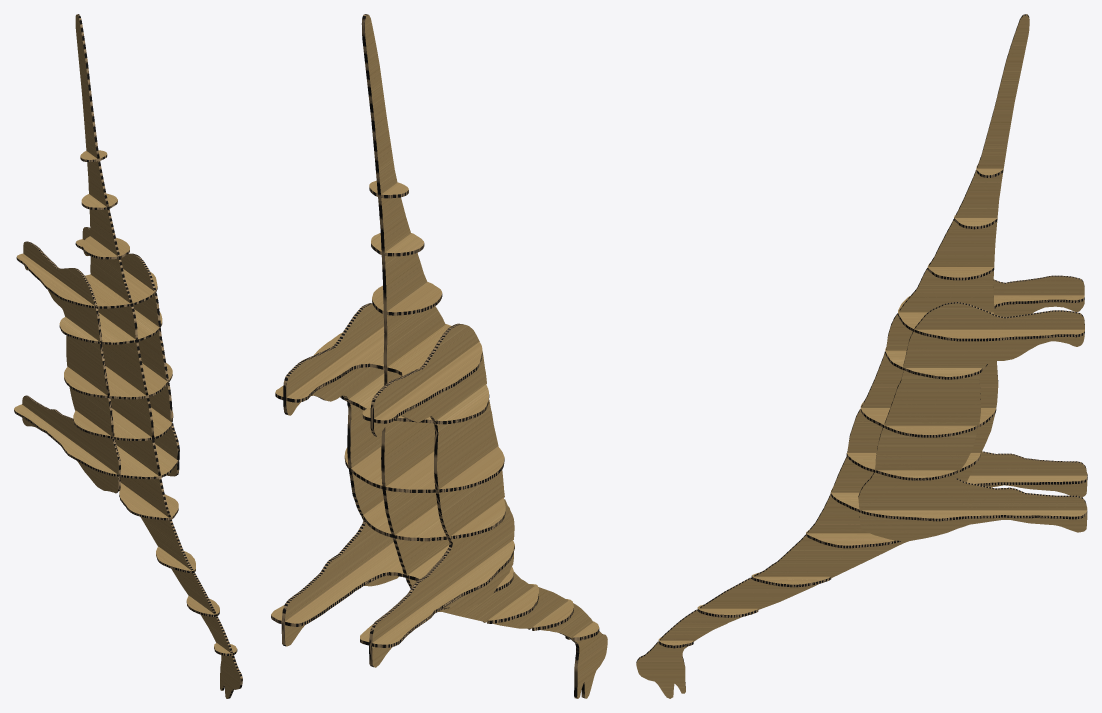
The model's file is sliced.obj.
3 renders of one model, left to right at view 1: azimuth 30°, elevation 25°; view 2: azimuth 150°, elevation 25°; view 3: azimuth 270°, elevation 25°, orthographic. The views are drawn at different scales.
Parts seen in each view (by area): view 1: Slice_Y-2_Part_0000_CapBot_0000, Slice_Y-1_Part_0000_CapBot_0000, Slice_Y-3_Part_0000_CapBot_0000, Slice_Z-4_Part_0000_CapBot_0000, Slice_Z-8_Part_0000_CapBot_0000, Slice_Y-2_Part_0000_Ribbon_0000, Slice_Z-6_Part_0000_CapBot_0000, Slice_Z-5_Part_0000_CapBot_0000, Slice_Z-7_Part_0000_CapBot_0000, Slice_Z-9_Part_0000_CapBot_0000, Slice_Y-1_Part_0000_Ribbon_0000, Slice_Y-3_Part_0000_Ribbon_0000 (+4 smaller); view 2: Slice_Y-2_Part_0000_CapBot_0000, Slice_Y-1_Part_0000_CapBot_0000, Slice_Y-3_Part_0000_CapBot_0000, Slice_Z-8_Part_0000_CapBot_0000, Slice_Z-4_Part_0000_CapBot_0000, Slice_Z-6_Part_0000_CapBot_0000, Slice_Y-2_Part_0000_Ribbon_0000, Slice_Z-7_Part_0000_CapBot_0000, Slice_Y-1_Part_0000_Ribbon_0000, Slice_Y-3_Part_0000_Ribbon_0000, Slice_Z-5_Part_0000_CapBot_0000, Slice_Z-8_Part_0000_Ribbon_0000 (+6 smaller); view 3: Slice_Y-2_Part_0000_CapTop_0000, Slice_Y-3_Part_0000_CapTop_0000, Slice_Y-1_Part_0000_CapTop_0000, Slice_Z-8_Part_0000_CapBot_0000, Slice_Z-4_Part_0000_CapBot_0000, Slice_Z-8_Part_0000_Ribbon_0000, Slice_Z-6_Part_0000_CapBot_0000, Slice_Z-4_Part_0000_Ribbon_0000, Slice_Y-2_Part_0000_Ribbon_0000, Slice_Z-7_Part_0000_CapBot_0000, Slice_Z-9_Part_0000_CapBot_0000, Slice_Y-3_Part_0000_Ribbon_0000 (+1 smaller).
Boxes of the visible parts, bbox=[...] form: Slice_Y-2_Part_0000_CapBot_0000: bbox=[75, 14, 240, 698]; Slice_Y-1_Part_0000_CapBot_0000: bbox=[22, 242, 118, 493]; Slice_Y-3_Part_0000_CapBot_0000: bbox=[82, 227, 177, 476]; Slice_Z-4_Part_0000_CapBot_0000: bbox=[17, 239, 157, 306]; Slice_Z-8_Part_0000_CapBot_0000: bbox=[14, 404, 177, 476]; Slice_Y-2_Part_0000_Ribbon_0000: bbox=[77, 14, 242, 698]; Slice_Z-6_Part_0000_CapBot_0000: bbox=[64, 363, 172, 397]; Slice_Z-5_Part_0000_CapBot_0000: bbox=[59, 309, 162, 342]; Slice_Z-7_Part_0000_CapBot_0000: bbox=[73, 407, 173, 438]; Slice_Z-9_Part_0000_CapBot_0000: bbox=[119, 482, 178, 517]; Slice_Y-1_Part_0000_Ribbon_0000: bbox=[25, 241, 120, 493]; Slice_Y-3_Part_0000_Ribbon_0000: bbox=[85, 227, 179, 476]; Slice_Y-2_Part_0000_CapBot_0000: bbox=[365, 15, 607, 698]; Slice_Y-1_Part_0000_CapBot_0000: bbox=[372, 324, 514, 667]; Slice_Y-3_Part_0000_CapBot_0000: bbox=[285, 304, 398, 646]; Slice_Z-8_Part_0000_CapBot_0000: bbox=[271, 540, 514, 644]; Slice_Z-4_Part_0000_CapBot_0000: bbox=[275, 324, 482, 420]; Slice_Z-6_Part_0000_CapBot_0000: bbox=[344, 446, 504, 489]; Slice_Y-2_Part_0000_Ribbon_0000: bbox=[361, 14, 602, 698]; Slice_Z-7_Part_0000_CapBot_0000: bbox=[363, 498, 505, 537]; Slice_Y-1_Part_0000_Ribbon_0000: bbox=[369, 323, 504, 667]; Slice_Y-3_Part_0000_Ribbon_0000: bbox=[281, 303, 372, 646]; Slice_Z-5_Part_0000_CapBot_0000: bbox=[342, 373, 489, 420]; Slice_Z-8_Part_0000_Ribbon_0000: bbox=[271, 546, 514, 647]; Slice_Y-2_Part_0000_CapTop_0000: bbox=[636, 15, 1029, 698]; Slice_Y-3_Part_0000_CapTop_0000: bbox=[858, 303, 1087, 541]; Slice_Y-1_Part_0000_CapTop_0000: bbox=[970, 277, 1087, 497]; Slice_Z-8_Part_0000_CapBot_0000: bbox=[831, 473, 1087, 518]; Slice_Z-4_Part_0000_CapBot_0000: bbox=[898, 295, 1084, 338]; Slice_Z-8_Part_0000_Ribbon_0000: bbox=[830, 474, 1087, 521]; Slice_Z-6_Part_0000_CapBot_0000: bbox=[860, 401, 995, 434]; Slice_Z-4_Part_0000_Ribbon_0000: bbox=[898, 297, 1084, 341]; Slice_Y-2_Part_0000_Ribbon_0000: bbox=[636, 14, 1029, 686]; Slice_Z-7_Part_0000_CapBot_0000: bbox=[847, 452, 980, 477]; Slice_Z-9_Part_0000_CapBot_0000: bbox=[806, 530, 894, 545]; Slice_Y-3_Part_0000_Ribbon_0000: bbox=[858, 302, 1087, 517].
Size of what is drawn, in the model's own units: 44.13 by 254 by 152.
Materials: 2 (2 with a texture image).
